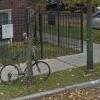Bicycle: (1, 50, 51, 88)
